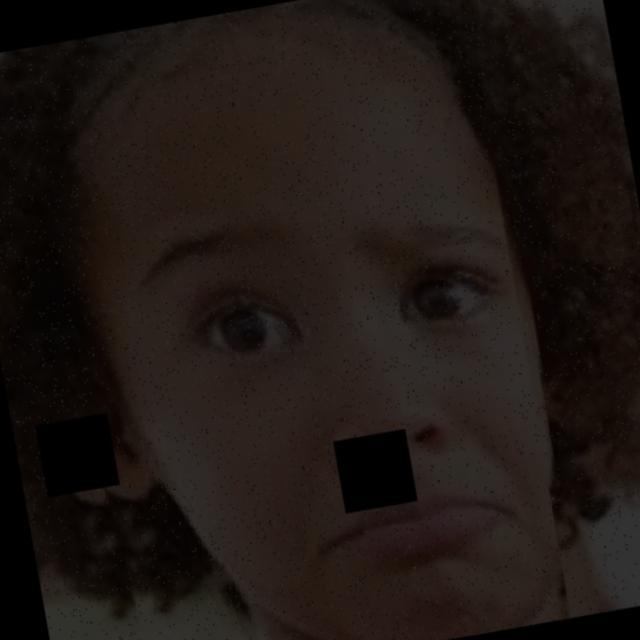Sad: (123, 96, 557, 640)
